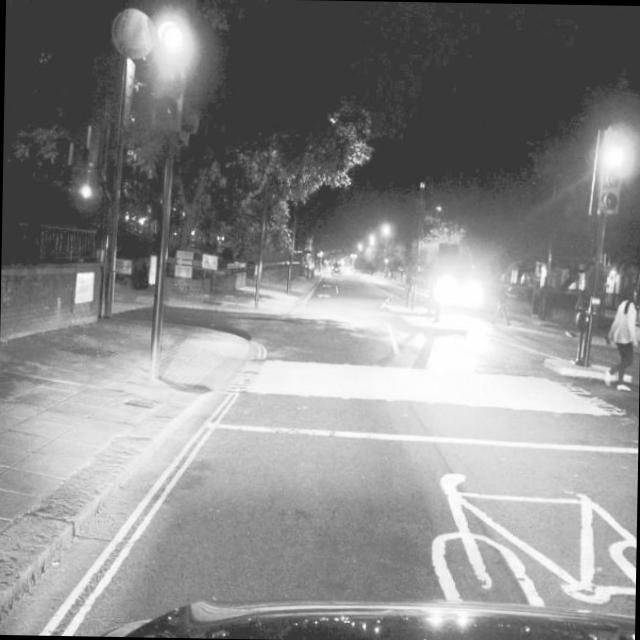Light: (156, 21, 183, 128), (602, 142, 624, 215), (182, 76, 200, 134), (82, 172, 92, 198)
